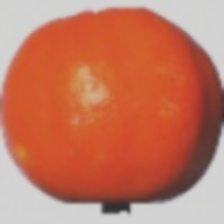tangerine: (36, 25, 184, 203)
